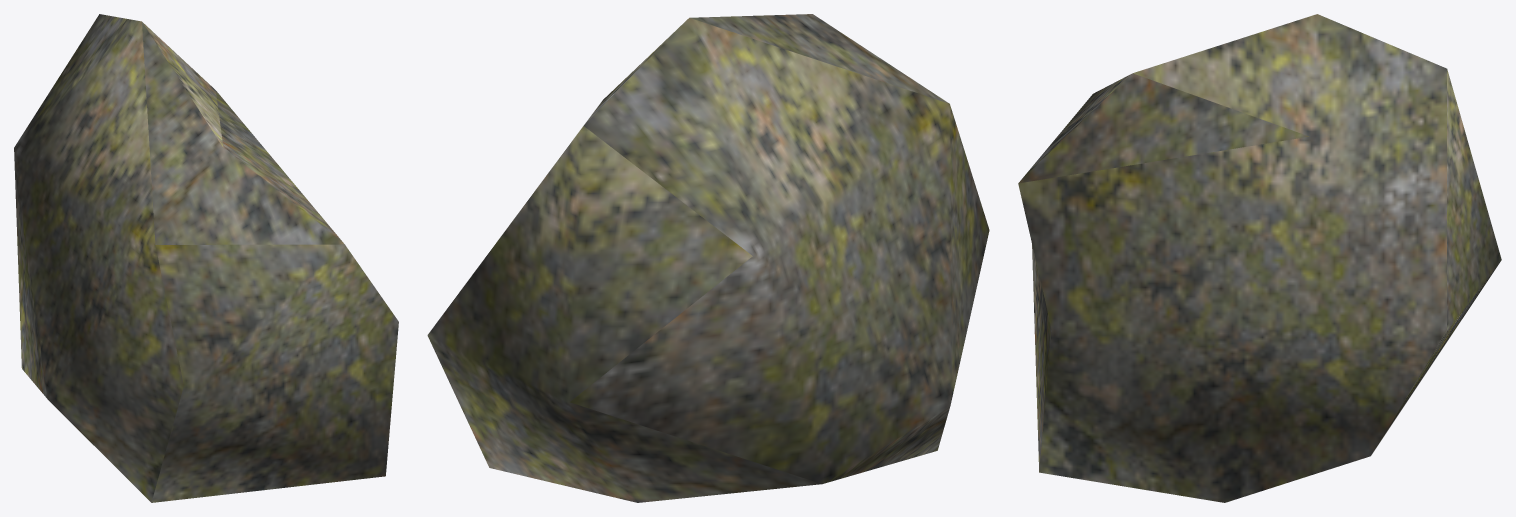
The model's file is Type2_Rock_huge_3.fbx.
The picture shows the model from 3 angles, left to right: view 1: azimuth 30°, elevation 25°; view 2: azimuth 150°, elevation 25°; view 3: azimuth 270°, elevation 25°; orthographic projection. The views are drawn at different scales.
Visible parts, largest first — view 1: Type2_Rock_huge_3; view 2: Type2_Rock_huge_3; view 3: Type2_Rock_huge_3.
Part boxes in pixels (bbox=[...]): Type2_Rock_huge_3: bbox=[14, 14, 398, 502]; Type2_Rock_huge_3: bbox=[427, 14, 989, 502]; Type2_Rock_huge_3: bbox=[1018, 14, 1501, 502].
Bounding box in the file's own units: 2.4 × 2.97 × 3.18.
